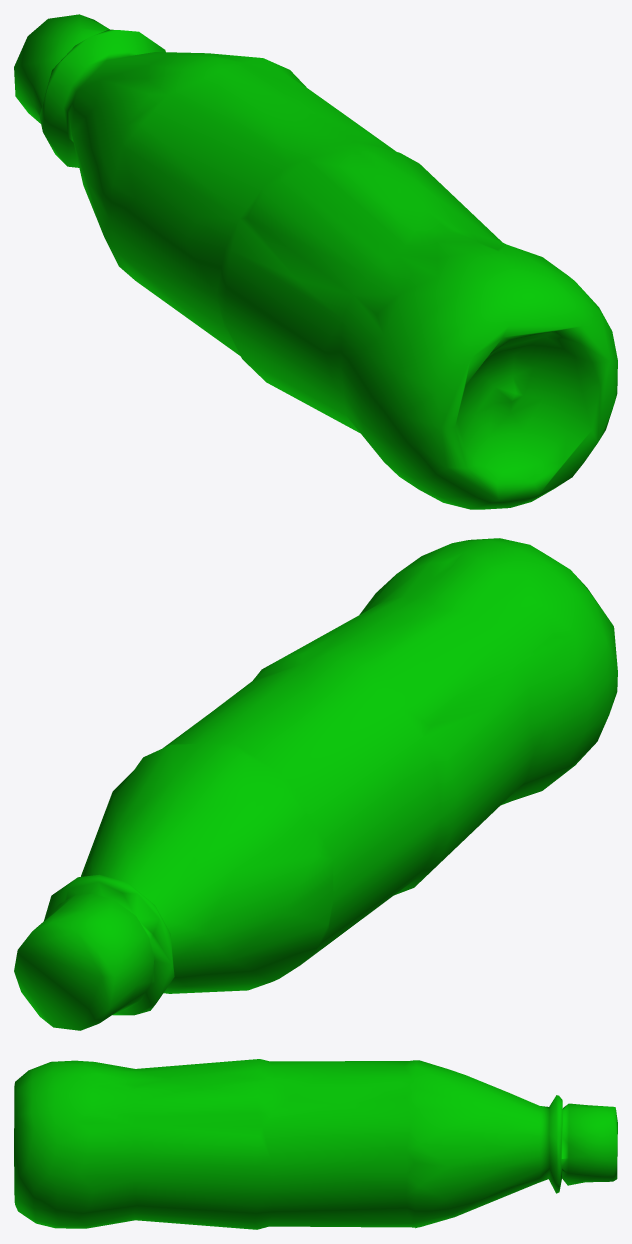
File: bottle4_3.dae
The picture shows the model from 3 angles, top to bottom: view 1: azimuth 30°, elevation 25°; view 2: azimuth 150°, elevation 25°; view 3: azimuth 270°, elevation 25°; orthographic projection. The views are drawn at different scales.
Visible parts, largest first — view 1: CokePlasticSmall_800_tex; view 2: CokePlasticSmall_800_tex; view 3: CokePlasticSmall_800_tex.
Part boxes in pixels (box(x1,y1,x2,y2)): CokePlasticSmall_800_tex: box(14, 14, 617, 509); CokePlasticSmall_800_tex: box(14, 538, 617, 1030); CokePlasticSmall_800_tex: box(14, 1059, 617, 1229).
Bounding box in the file's own units: 0.045 × 0.1583 × 0.045.
